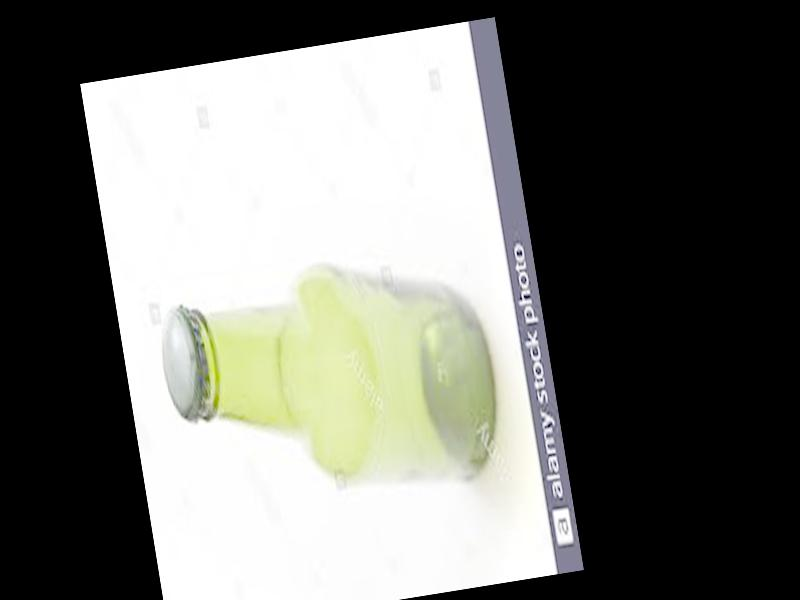Beer: (154, 257, 508, 524)
